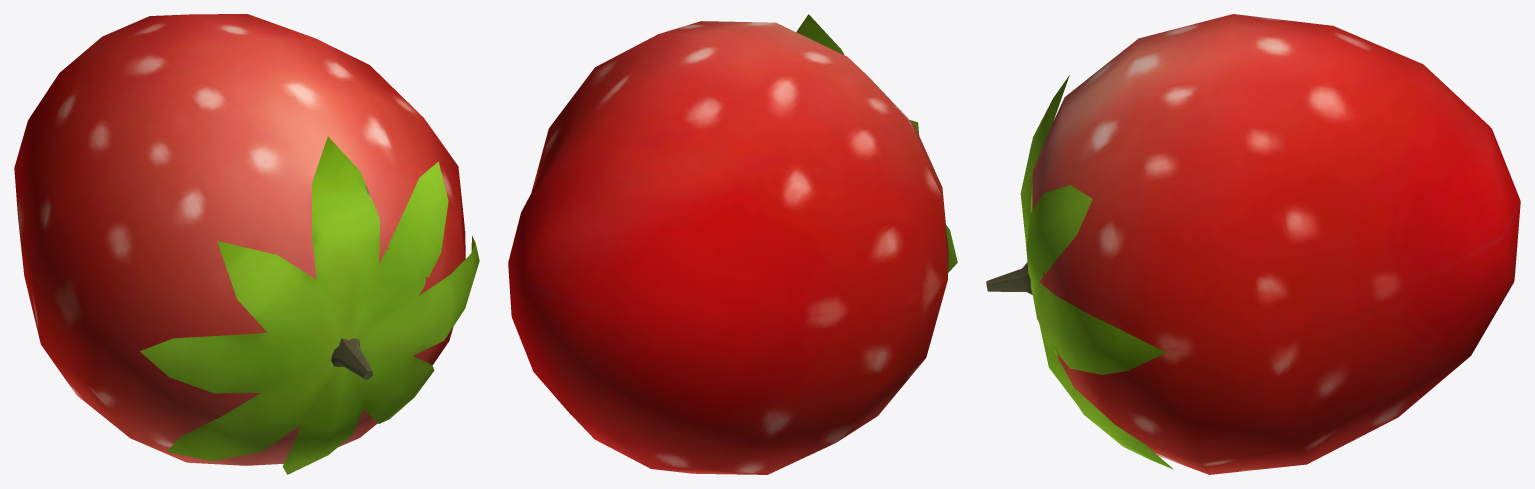
The model's file is Straberyy.fbx.
The picture shows the model from 3 angles, left to right: view 1: azimuth 30°, elevation 25°; view 2: azimuth 150°, elevation 25°; view 3: azimuth 270°, elevation 25°; orthographic projection.
Visible parts, largest first — view 1: Starbryy; view 2: Starbryy; view 3: Starbryy.
Part boxes in pixels (<box>): Starbryy: <box>14,14,479,474</box>; Starbryy: <box>508,14,957,474</box>; Starbryy: <box>986,14,1520,474</box>.
Size of the model in its own units: 3.11 by 3.16 by 3.66.
1 material, 1 textured.
